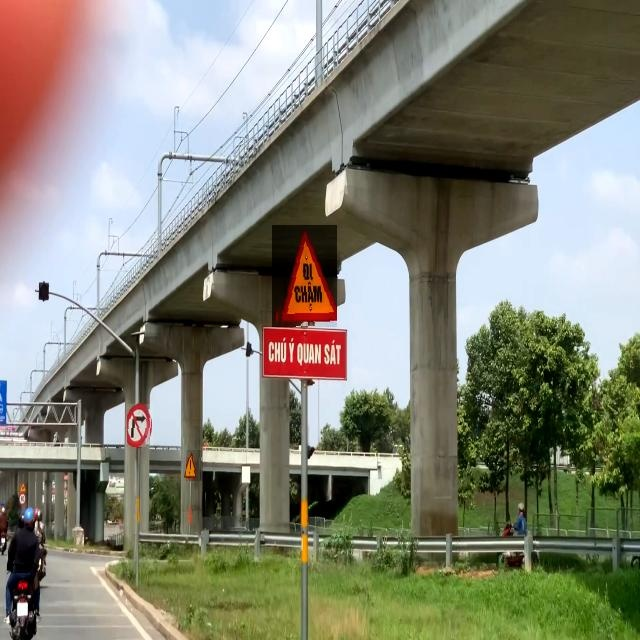bien_cam: (272, 225, 337, 327), (127, 404, 153, 447), (186, 450, 203, 481)
